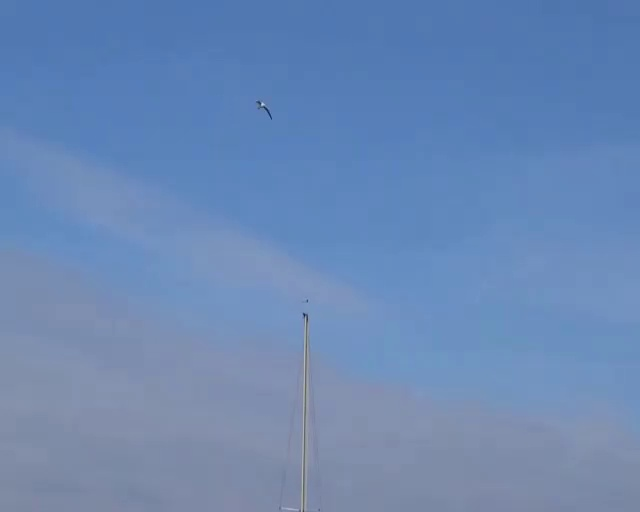BIRD: (256, 99, 273, 119)
